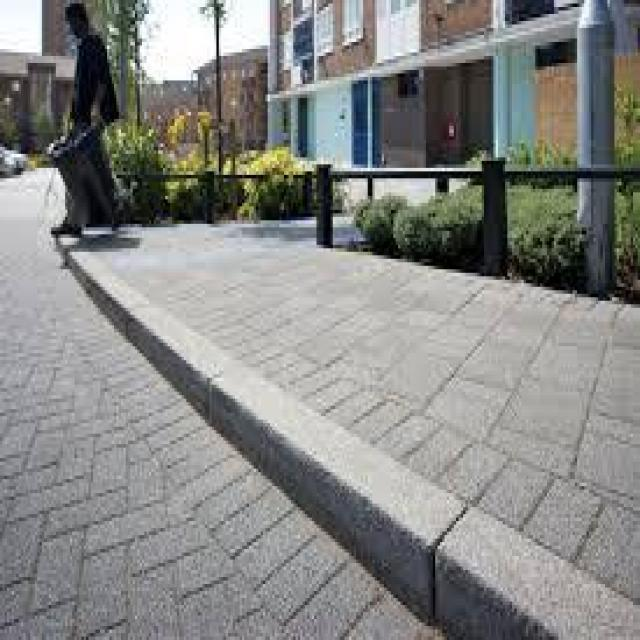curb: (57, 241, 640, 640)
